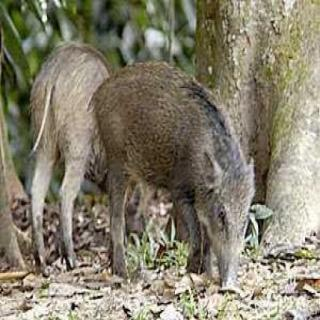Pig: (90, 44, 288, 286), (12, 28, 115, 265)
